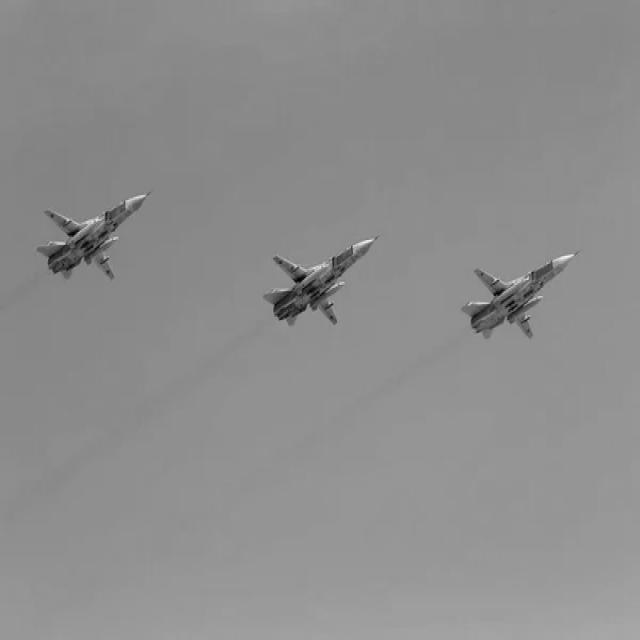Aircraft: (456, 248, 582, 354), (262, 235, 378, 336), (36, 191, 152, 289)
